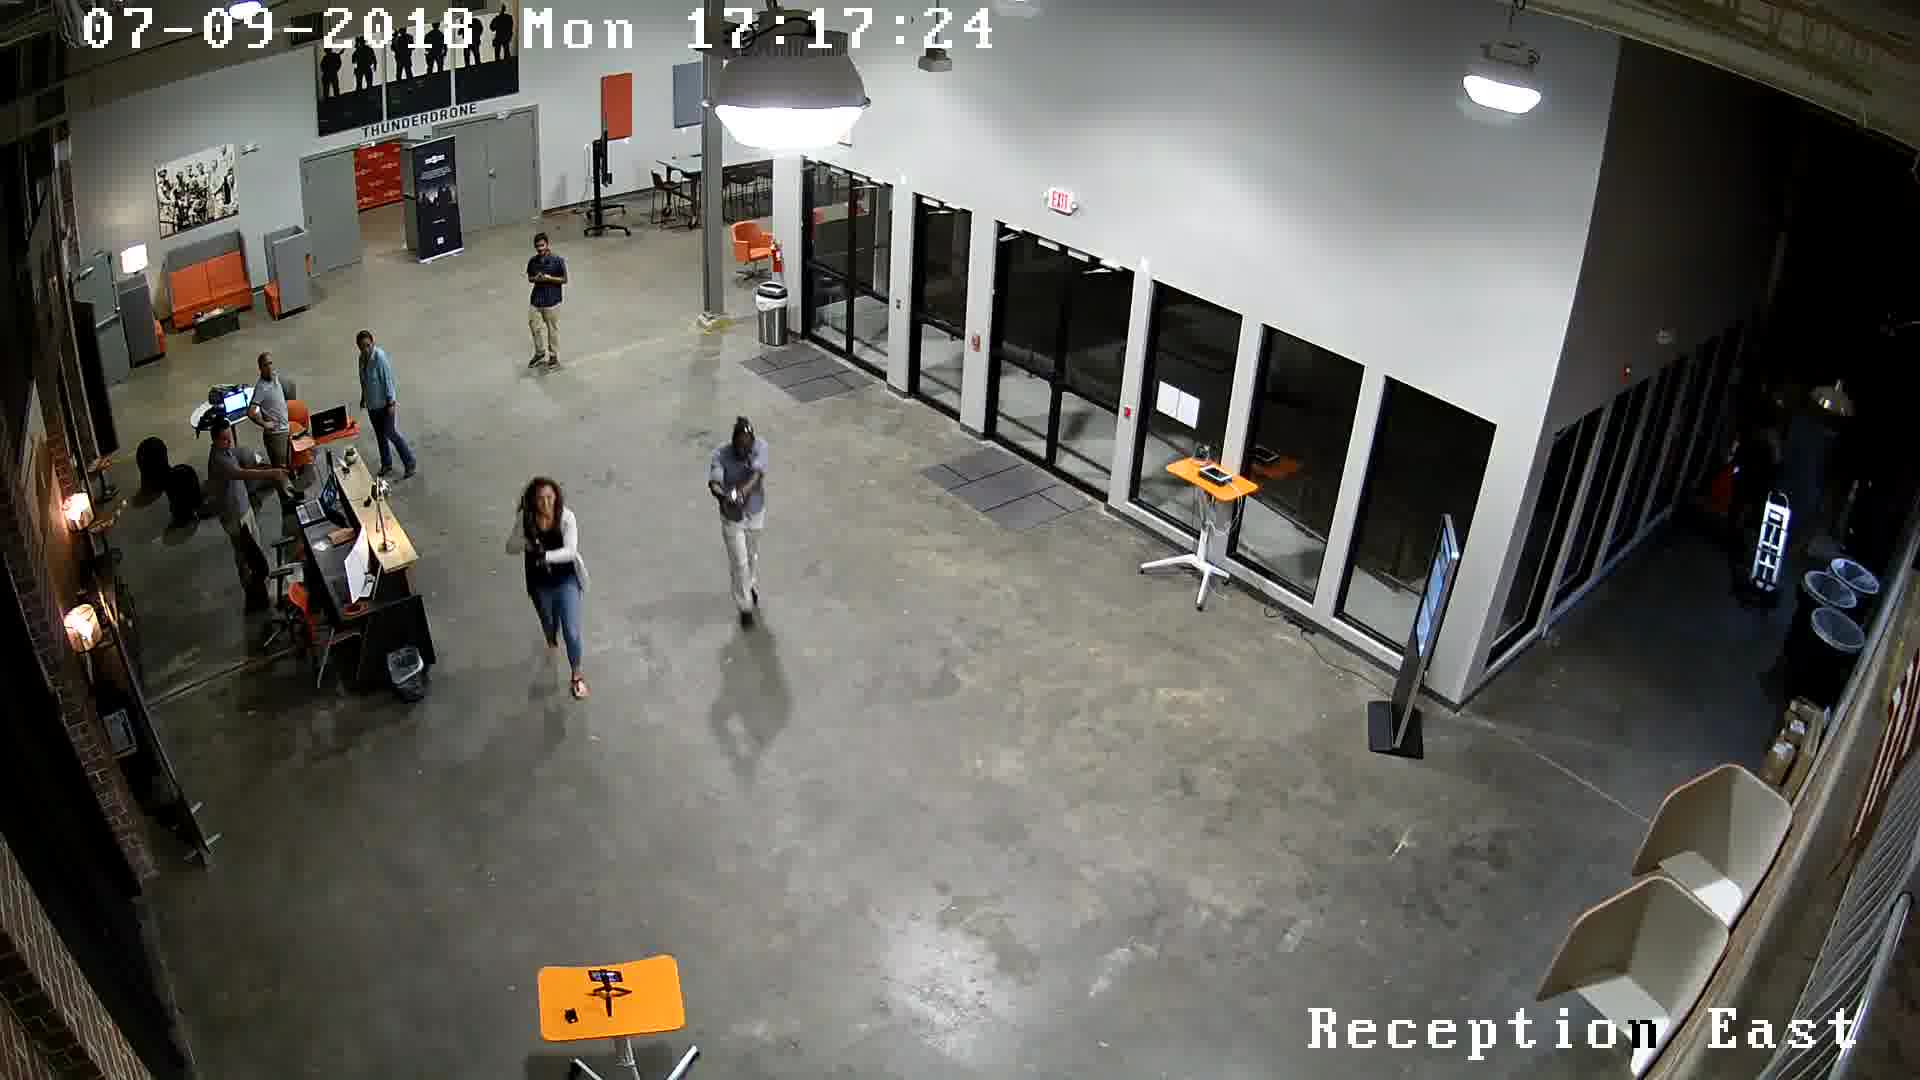pistol: (719, 479, 744, 530), (527, 262, 550, 291)
